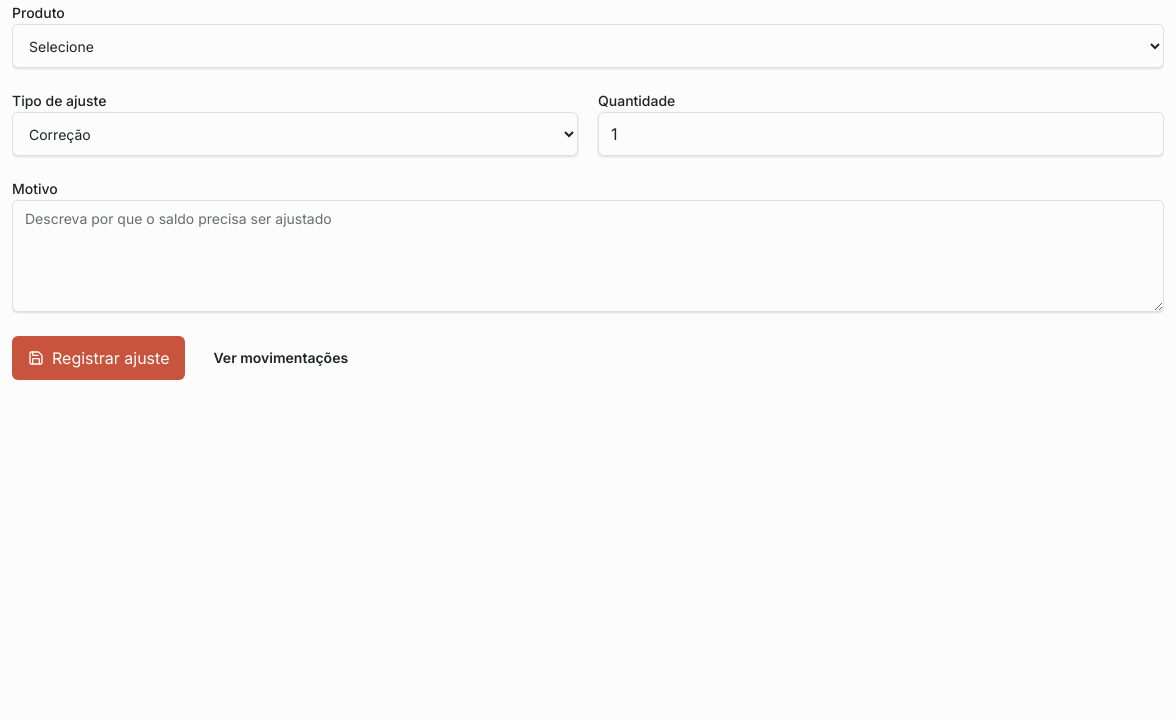
AdjustStockForm › requires explicit confirmation when the projected stock is negative
Select "PERF-001 · Essencial feminino" in the dropdown labelled "Produto" at x=588, y=46, box [12, 24, 1164, 68]
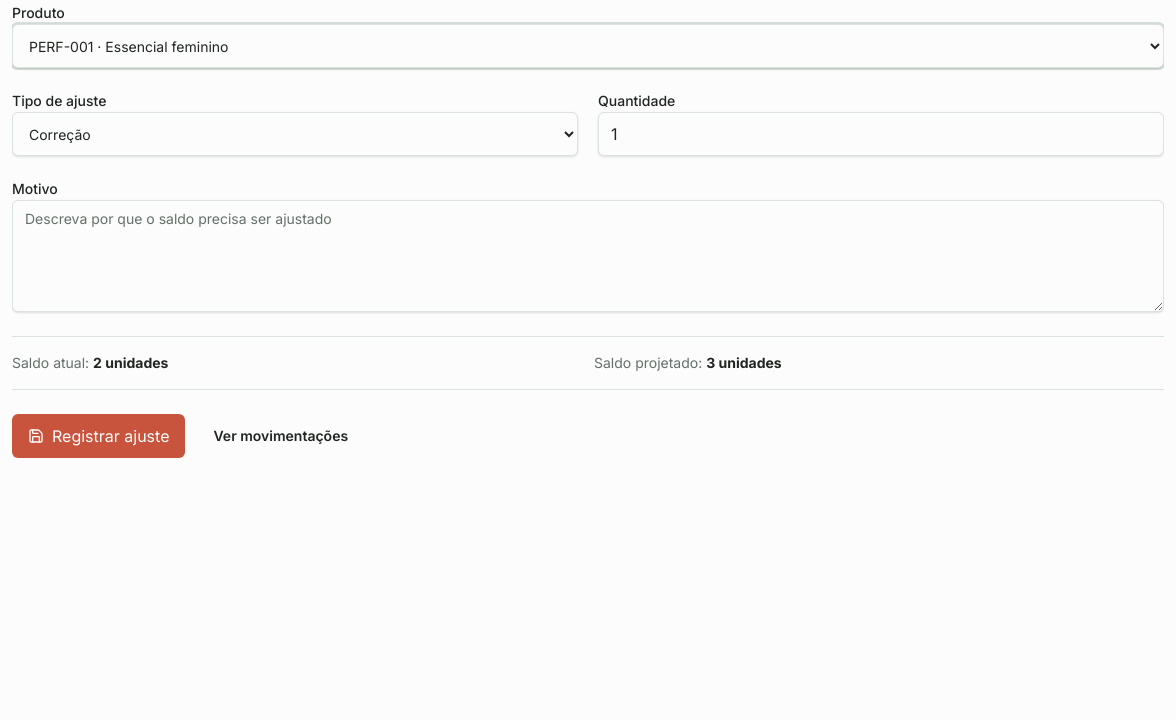
Select "Uso pessoal" in the dropdown labelled "Tipo de ajuste" at x=295, y=134, box [12, 112, 578, 156]
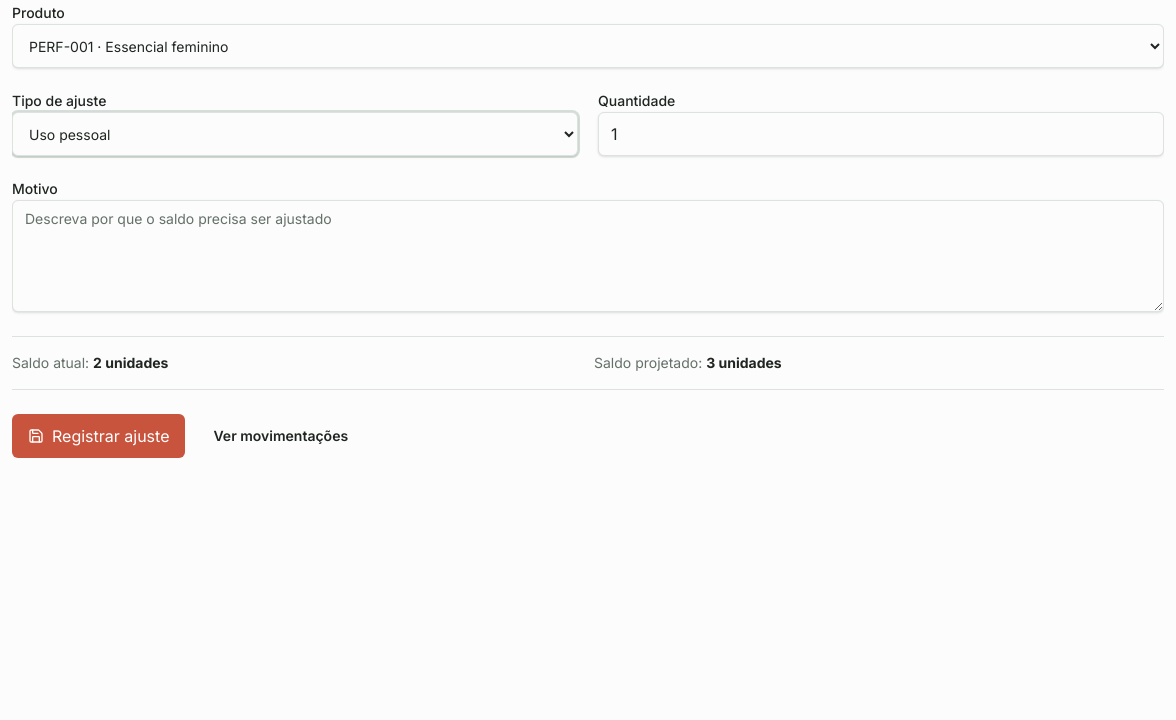
Replace the text in the number field labelled "Quantidade" with "-4" at x=881, y=134, box [598, 112, 1164, 156]
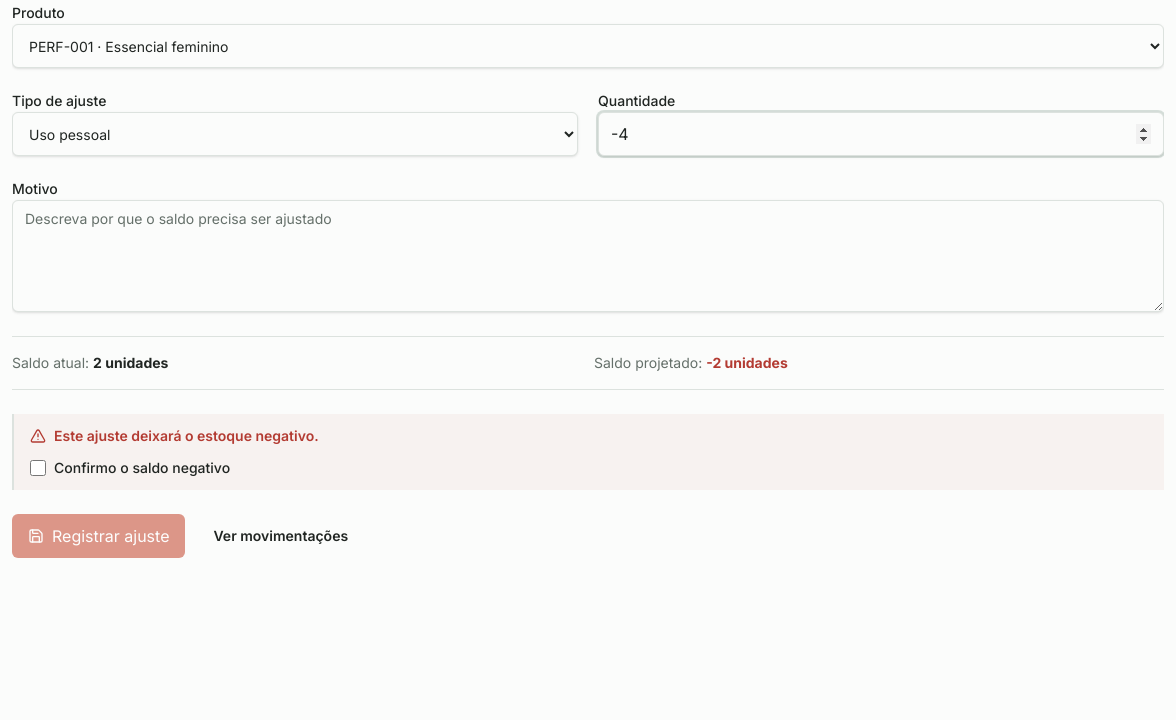
Type "Uso em demonstração" into the text box labelled "Motivo".
click(588, 256); type("Uso em demonstração")  # box [12, 200, 1164, 312]
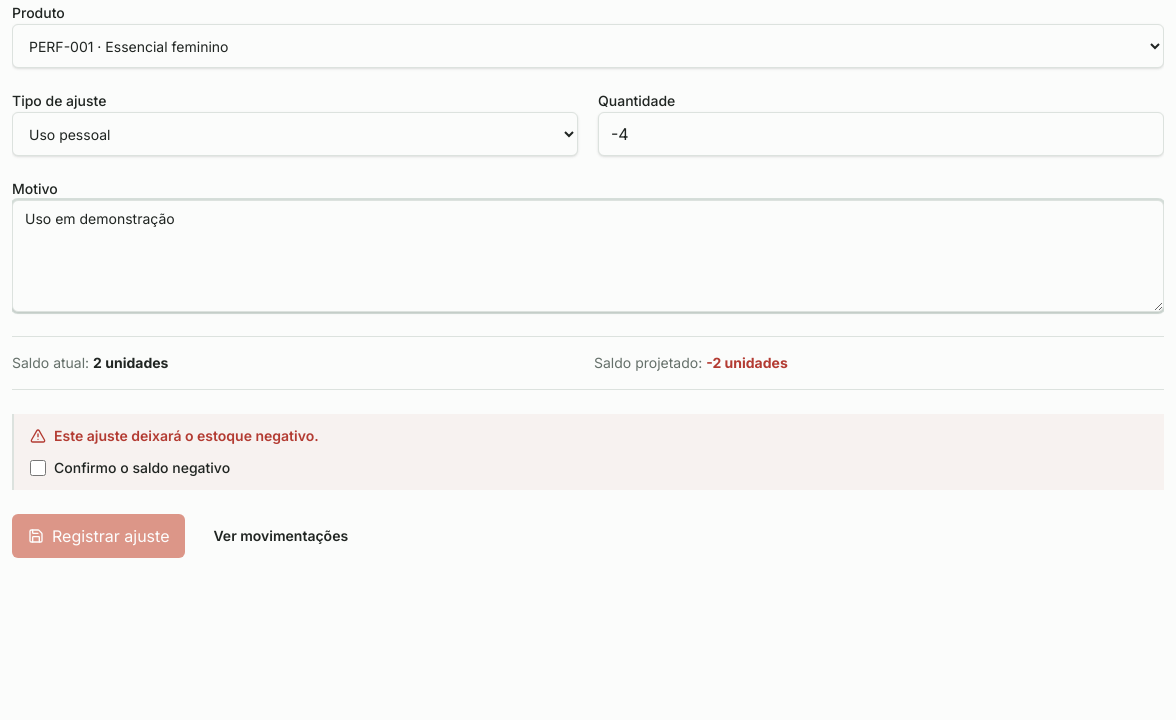
Expected: the text "Saldo atual:" reads "Saldo atual: 2 unidades", [12, 354, 168, 371]
Expected: the text "Saldo projetado:" reads "Saldo projetado: -2 unidades", [594, 354, 788, 371]
Expected: the text "Este ajuste deixará o estoque negativo." is shown, [30, 427, 319, 444]
Click the checkbox labelled "Confirmo o saldo negativo".
click(38, 468)  # box [30, 460, 46, 476]
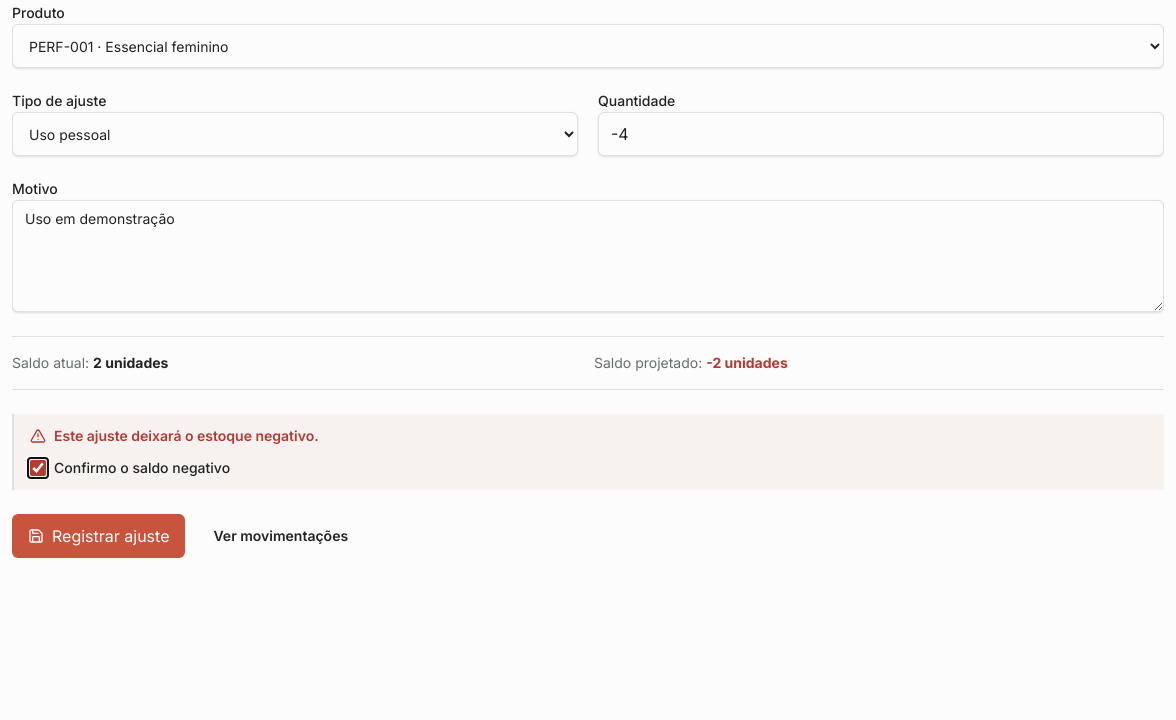
Expected: the button "Registrar ajuste" is enabled, [12, 514, 186, 558]
